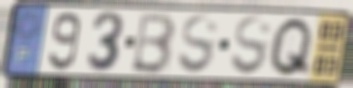3: (85, 10, 128, 74)
9: (48, 12, 83, 71)
B: (128, 11, 178, 76)
Q: (266, 15, 316, 78)
S: (176, 12, 221, 77), (229, 14, 274, 78)
